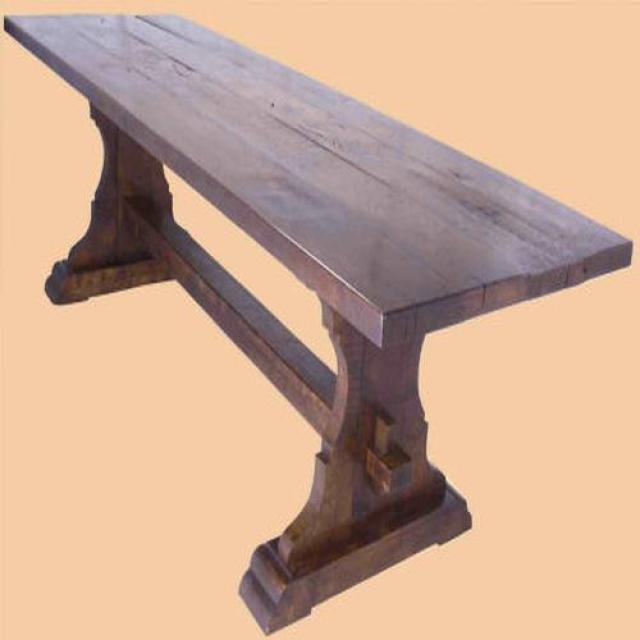table: (3, 13, 635, 635)
